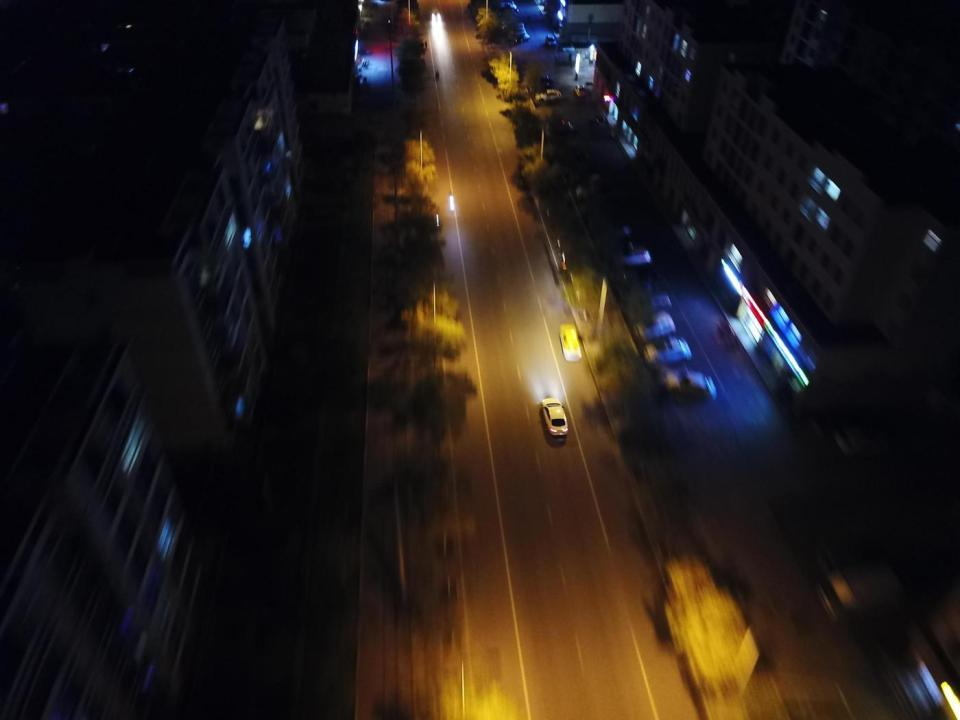car: (659, 367, 715, 400), (833, 426, 887, 457), (642, 334, 692, 366), (632, 312, 676, 340), (811, 412, 859, 436), (542, 397, 568, 437), (628, 291, 671, 314), (609, 244, 650, 267), (571, 172, 603, 200), (560, 322, 582, 362), (622, 270, 660, 292), (601, 222, 632, 242), (542, 119, 571, 134), (534, 89, 561, 102), (496, 7, 518, 16), (501, 22, 523, 30), (507, 34, 528, 42), (506, 28, 526, 36), (540, 75, 552, 88), (574, 84, 586, 96), (499, 0, 516, 8), (432, 8, 441, 19)
van: (816, 557, 905, 621), (546, 35, 556, 45)
